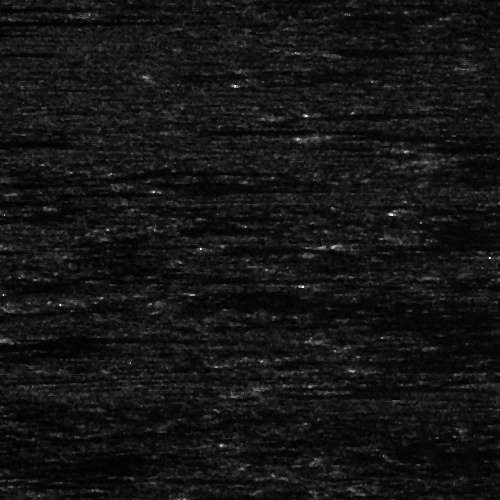object: (288, 240, 371, 249), (316, 363, 409, 370), (244, 378, 285, 393), (0, 332, 57, 341), (315, 131, 356, 136), (429, 156, 470, 161), (168, 126, 199, 131), (406, 141, 417, 150)
shadow: (20, 332, 283, 341), (265, 378, 407, 393), (329, 240, 500, 249), (0, 340, 126, 351), (363, 363, 500, 370), (335, 131, 500, 136), (0, 178, 115, 185), (412, 141, 500, 150), (0, 18, 157, 23), (0, 457, 151, 462), (0, 26, 79, 35), (184, 126, 310, 131), (0, 133, 34, 150), (0, 196, 49, 205), (0, 3, 70, 8), (0, 48, 47, 55), (449, 156, 500, 161)
